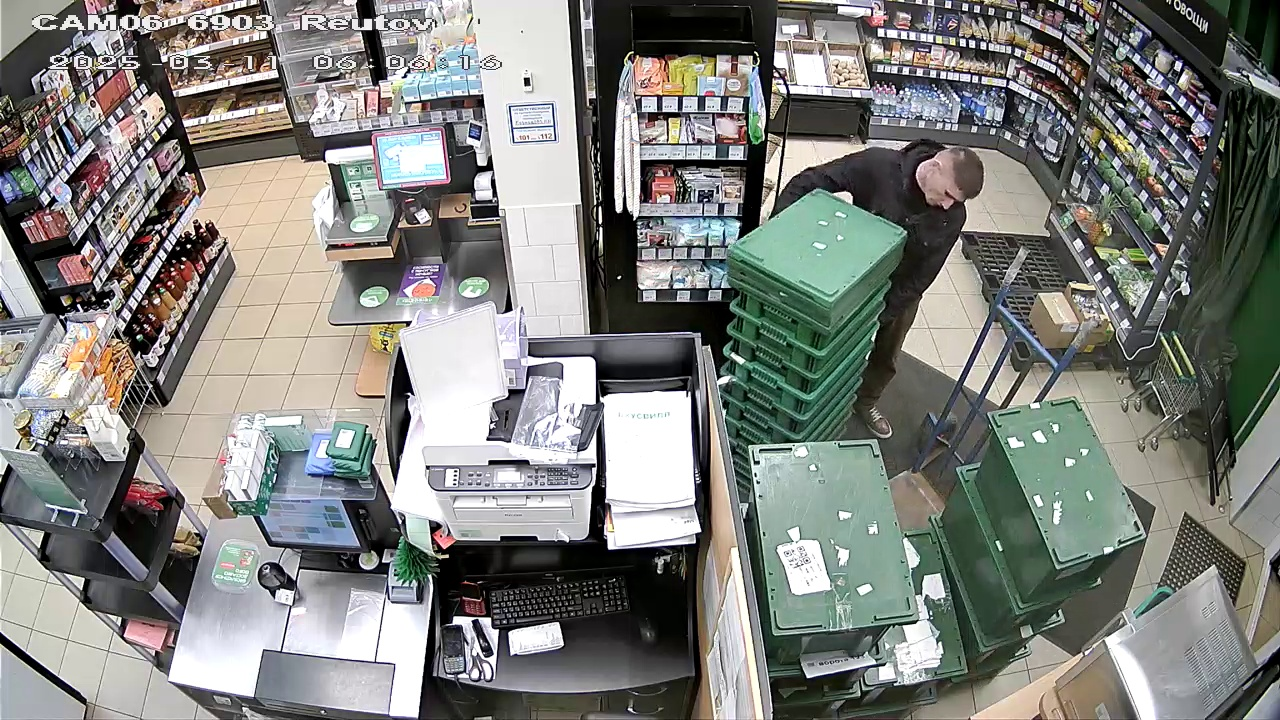Human: (758, 101, 980, 445)
pallet: (959, 225, 1132, 382)
